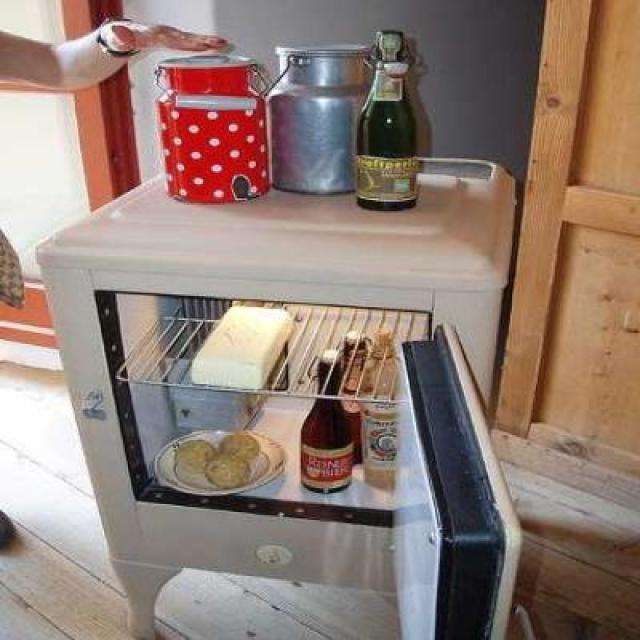refrigerator: (36, 246, 511, 604)
